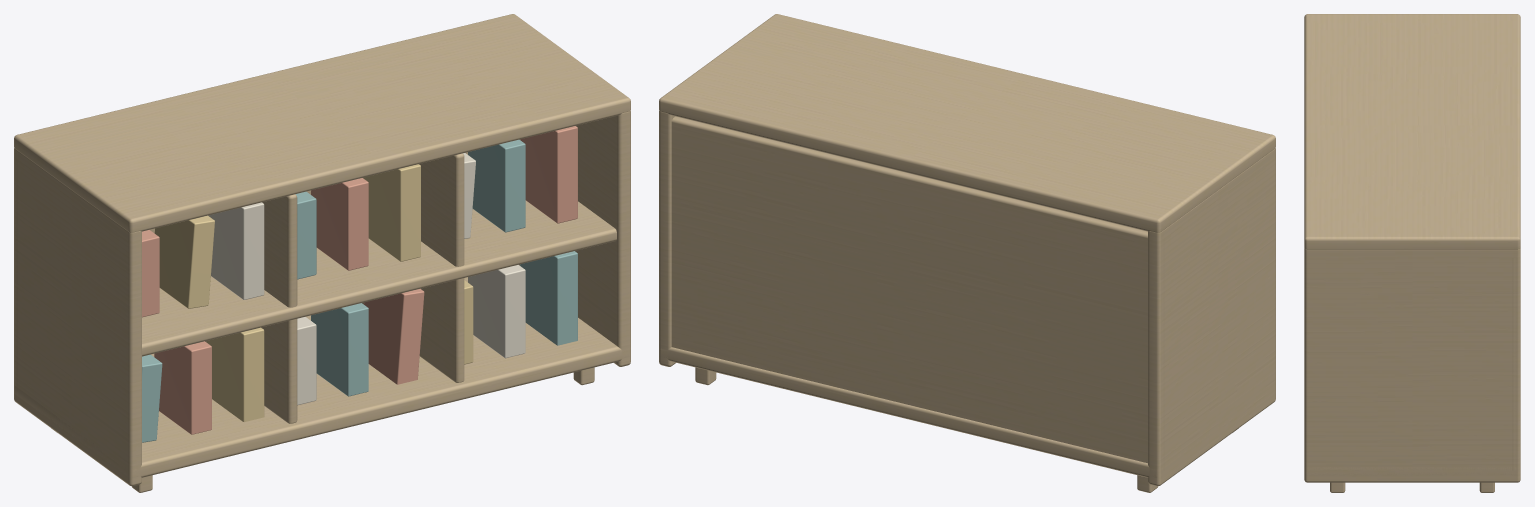
The model's file is low-shelf-v1.glb.
3 renders of one model, left to right at view 1: azimuth 30°, elevation 25°; view 2: azimuth 150°, elevation 25°; view 3: azimuth 270°, elevation 25°, orthographic. The views are drawn at different scales.
Parts seen in each view (by area): view 1: Timber foot; view 2: Timber foot; view 3: Timber foot.
Boxes of the visible parts, <box> form: Timber foot: <box>14,14,630,492</box>; Timber foot: <box>659,14,1275,492</box>; Timber foot: <box>1304,14,1520,492</box>.
Bounding box in the file's own units: 1.92 × 1.06 × 0.78.
5 materials, 1 textured.
